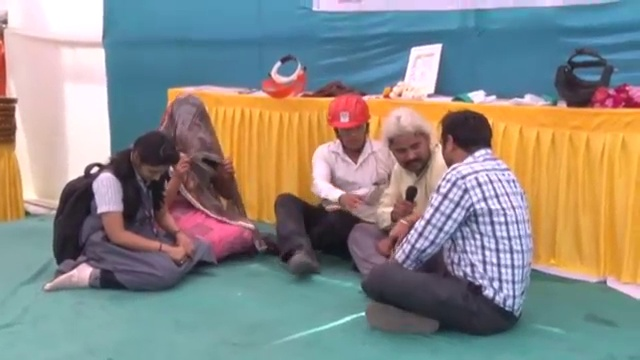helmet: (324, 90, 379, 132)
helmet_off: (433, 110, 496, 176), (383, 106, 436, 177), (164, 96, 214, 164), (125, 128, 178, 190)
helmet_on: (324, 90, 377, 156)
person: (364, 102, 532, 339), (48, 130, 197, 293), (271, 94, 391, 268), (154, 89, 250, 262), (349, 105, 446, 273)
